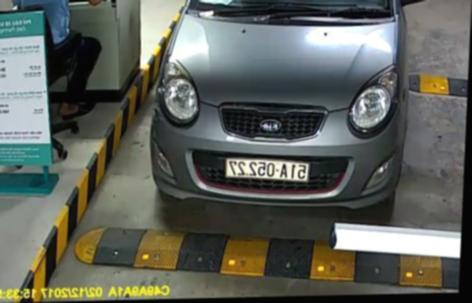License_Plate: (219, 156, 312, 182)
